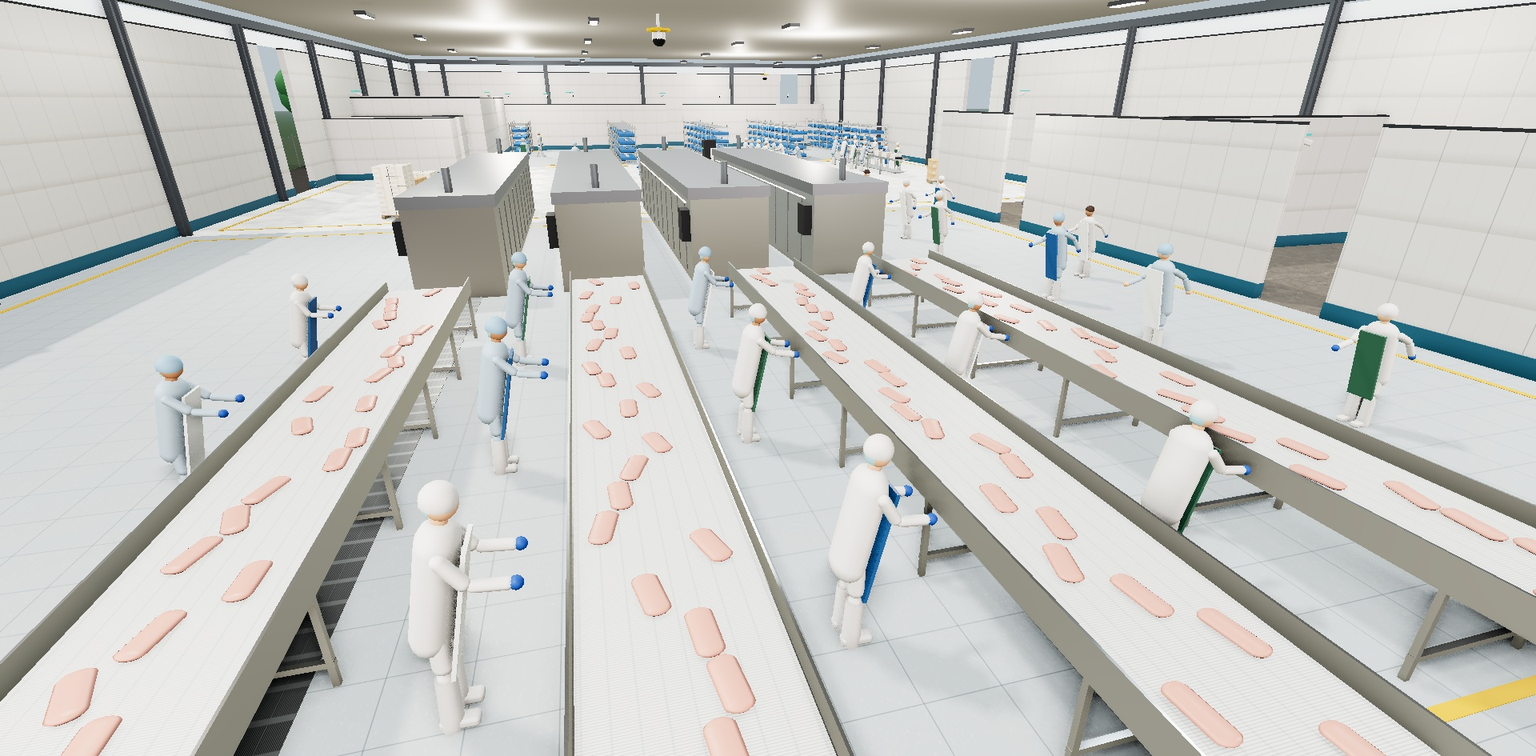apron: (422, 523, 496, 683), (1147, 433, 1222, 545), (848, 472, 901, 604), (157, 385, 227, 479), (1338, 329, 1397, 402), (487, 348, 526, 441), (292, 296, 332, 360), (952, 317, 987, 389), (1134, 267, 1173, 331), (746, 331, 771, 413), (513, 276, 539, 341), (1039, 231, 1065, 281), (697, 268, 716, 327), (856, 262, 877, 314), (1072, 221, 1095, 262), (927, 206, 944, 246), (897, 192, 910, 226), (932, 187, 945, 216), (860, 181, 870, 211)
glove: (506, 570, 526, 595), (511, 532, 530, 555), (922, 509, 941, 529), (1235, 462, 1256, 478), (1197, 441, 1217, 457), (899, 482, 916, 500), (214, 407, 232, 420), (231, 392, 248, 405), (1403, 351, 1421, 362), (537, 369, 549, 382), (1328, 343, 1343, 353), (539, 356, 550, 368), (791, 349, 801, 360), (781, 338, 791, 349), (1001, 333, 1012, 342), (985, 324, 996, 333), (325, 311, 336, 320), (333, 304, 343, 312), (546, 290, 554, 299), (1074, 247, 1083, 254), (547, 284, 554, 292), (728, 281, 735, 288), (723, 276, 730, 283), (1027, 242, 1035, 248), (885, 274, 892, 280), (877, 269, 884, 275), (1063, 229, 1070, 235), (1103, 233, 1110, 239), (917, 214, 923, 219), (950, 221, 956, 226), (889, 199, 894, 203), (912, 206, 917, 210), (951, 196, 956, 200), (925, 193, 929, 197)
hairnet: (407, 467, 467, 522), (857, 423, 904, 467), (1181, 391, 1232, 426), (145, 349, 192, 377), (481, 311, 511, 337), (1370, 299, 1407, 319), (746, 298, 771, 321), (963, 288, 990, 308), (286, 270, 313, 287), (1152, 240, 1180, 256), (509, 248, 529, 266), (697, 244, 714, 259), (860, 239, 878, 253), (1049, 210, 1069, 222), (933, 189, 947, 198), (901, 177, 912, 185), (936, 175, 947, 181)
person: (352, 450, 550, 752), (1110, 382, 1276, 594), (814, 411, 950, 662), (107, 342, 277, 521), (453, 305, 562, 482), (1304, 295, 1440, 436), (0, 544, 66, 756), (1108, 237, 1207, 360), (724, 294, 802, 449), (931, 284, 1018, 421), (263, 267, 359, 389), (491, 246, 562, 370), (1019, 209, 1090, 304), (681, 241, 736, 353), (842, 237, 895, 338), (1056, 203, 1116, 281), (914, 188, 959, 264), (886, 176, 921, 241), (922, 174, 958, 229), (849, 168, 884, 224)
